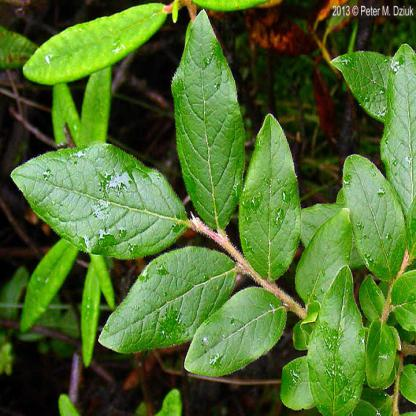Blueberry leaf: (10, 138, 192, 254), (164, 5, 247, 237), (94, 245, 244, 354), (237, 102, 302, 283), (306, 249, 374, 415), (336, 143, 410, 290), (178, 289, 296, 375), (291, 185, 348, 306)
